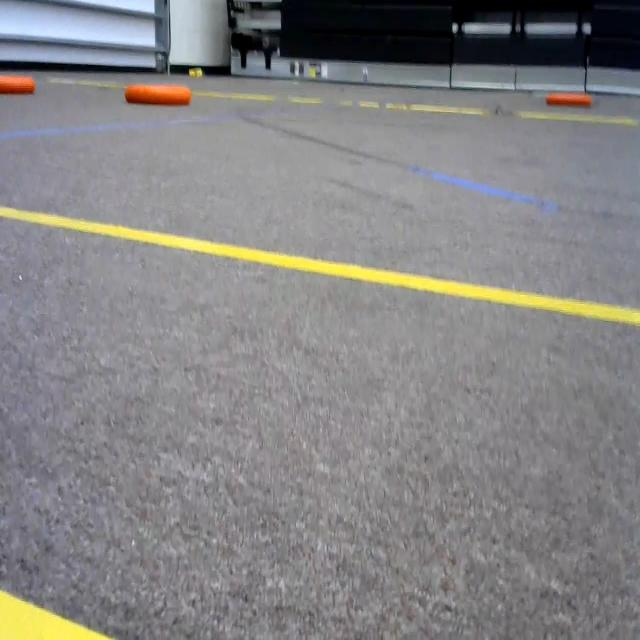note: (124, 83, 193, 116), (543, 89, 594, 114), (0, 73, 38, 98)
